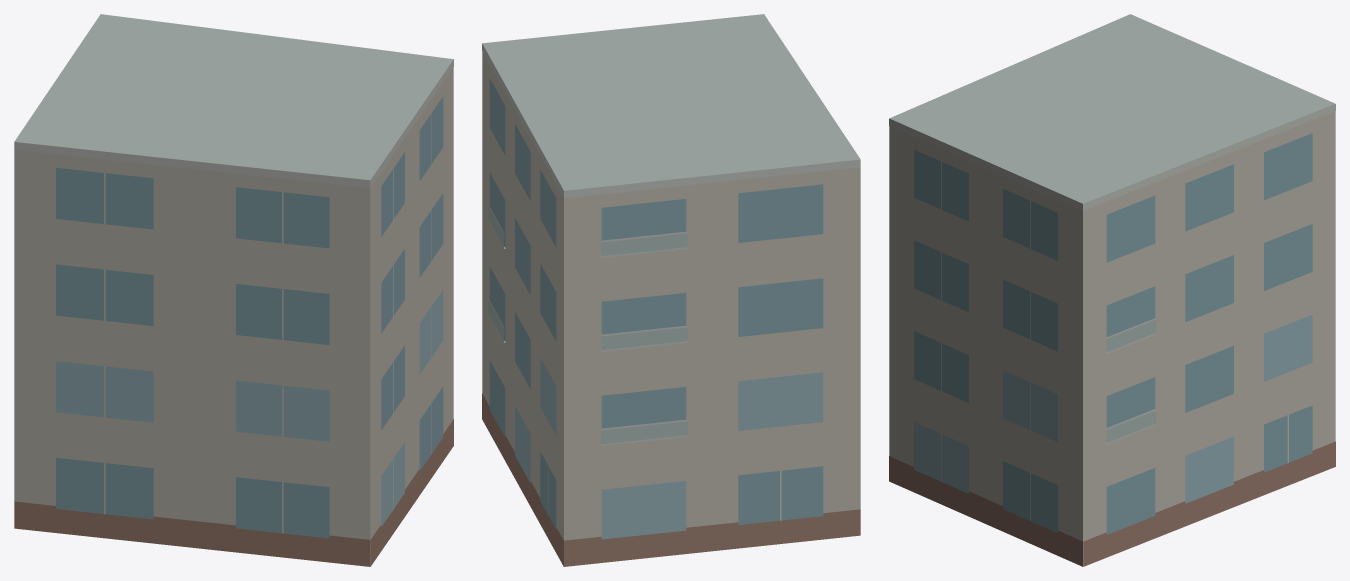
File: survey-upis-32611283.glb
3 renders of one model, left to right at view 1: azimuth 30°, elevation 25°; view 2: azimuth 150°, elevation 25°; view 3: azimuth 270°, elevation 25°, orthographic. The views are drawn at different scales.
Parts seen in each view (by area): view 1: survey-upis-32611283.tmp; view 2: survey-upis-32611283.tmp; view 3: survey-upis-32611283.tmp.
Boxes of the visible parts, x1=… form: survey-upis-32611283.tmp: x1=14, y1=14, x2=453, y2=566; survey-upis-32611283.tmp: x1=482, y1=14, x2=860, y2=566; survey-upis-32611283.tmp: x1=889, y1=14, x2=1335, y2=566.
Size of the model in its own units: 13.69 by 12.2 by 13.61.
